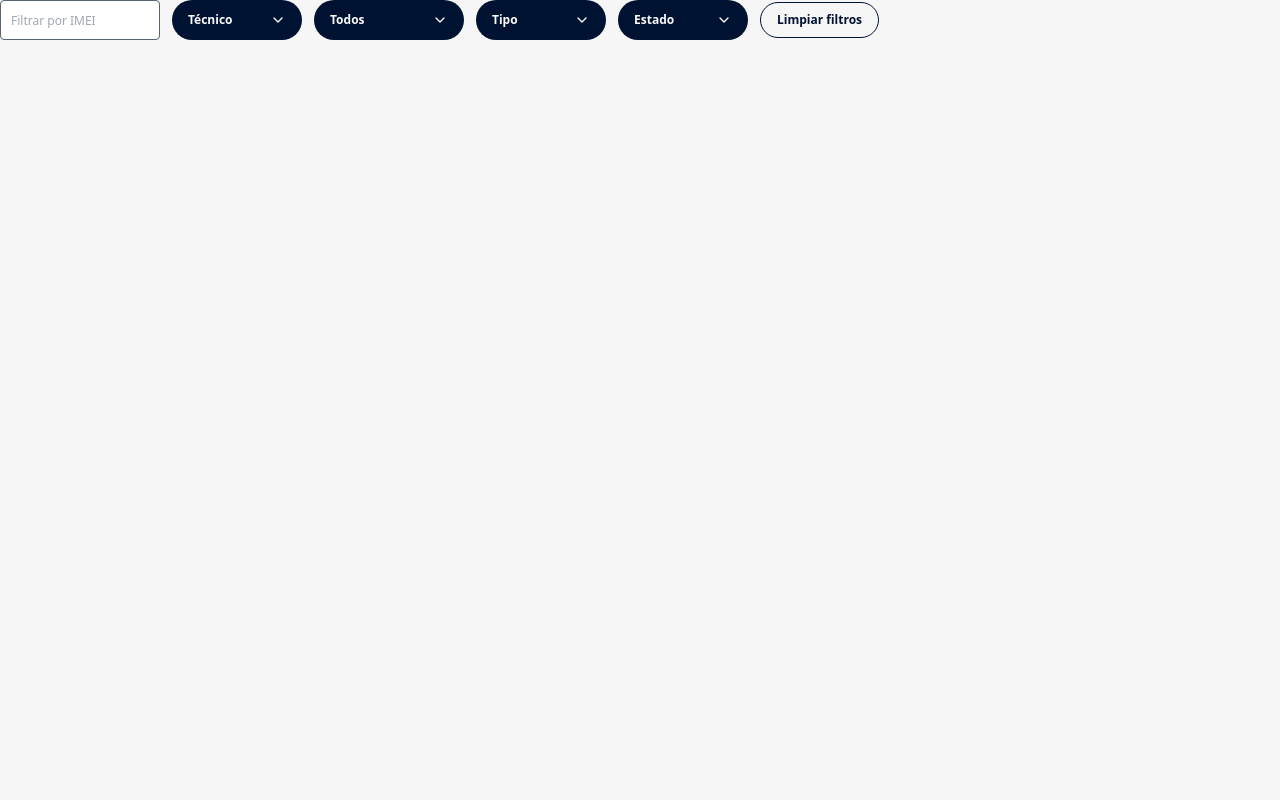
Test case: BarraFiltros › el desplegable de cliente arranca con todos marcados y dice Todos
This screenshot has width=1280, height=800.
Click the button "Todos".
click(389, 20)  # box [314,0,464,40]
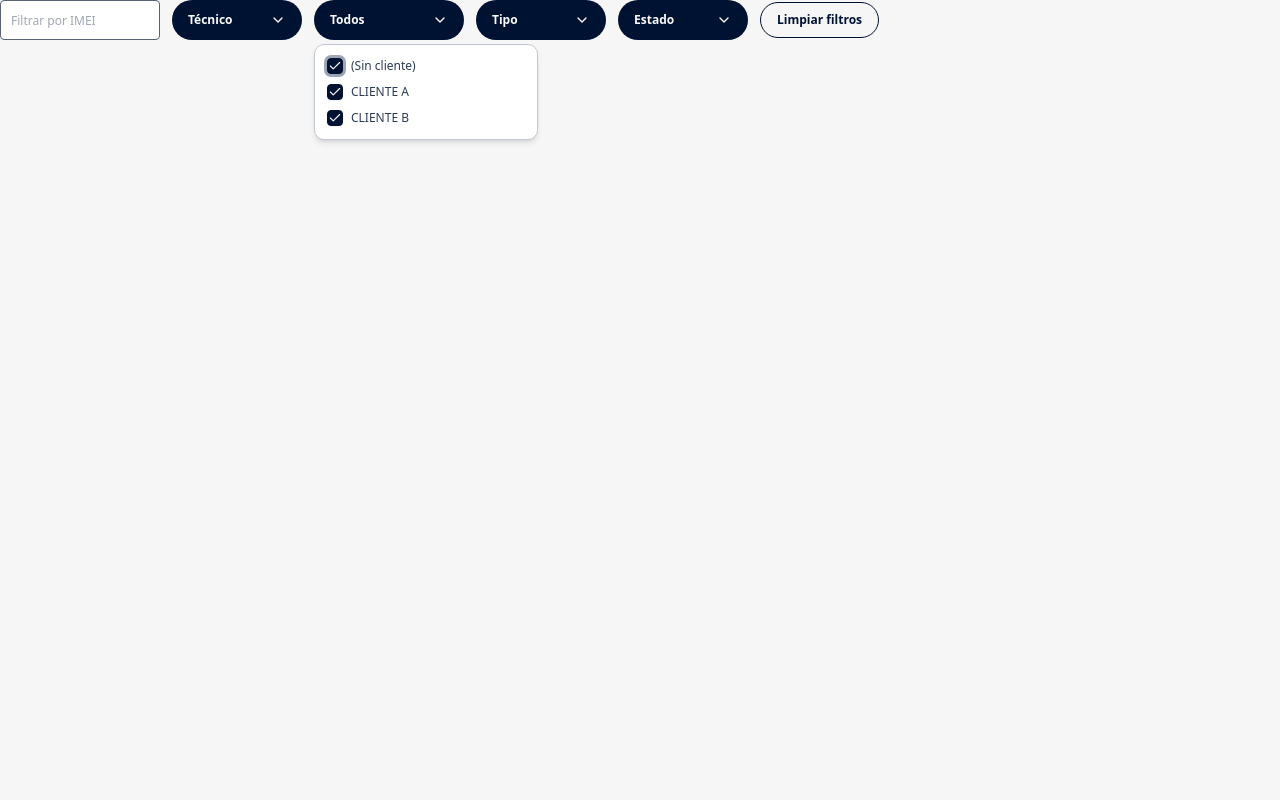
Check: the checkbox named "(Sin cliente)" is checked, box [327,58,343,74]
Check: the checkbox named "CLIENTE A" is checked, box [327,84,343,100]
Check: the checkbox named "CLIENTE B" is checked, box [327,110,343,126]
